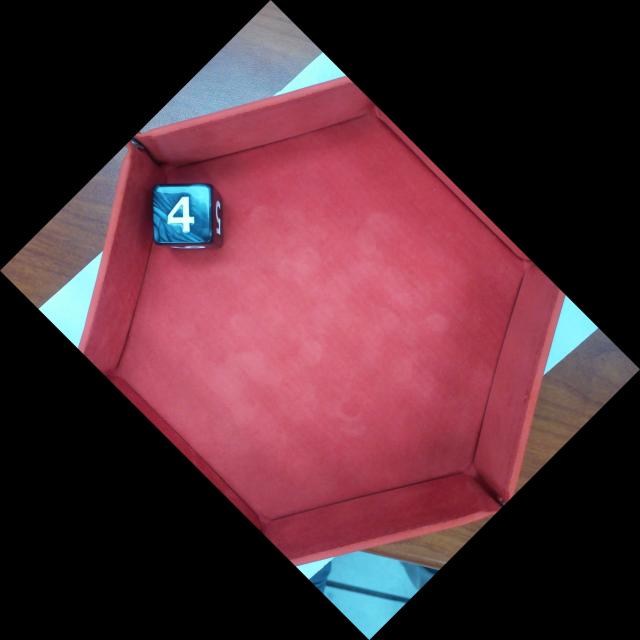dice: (150, 182, 214, 245)
